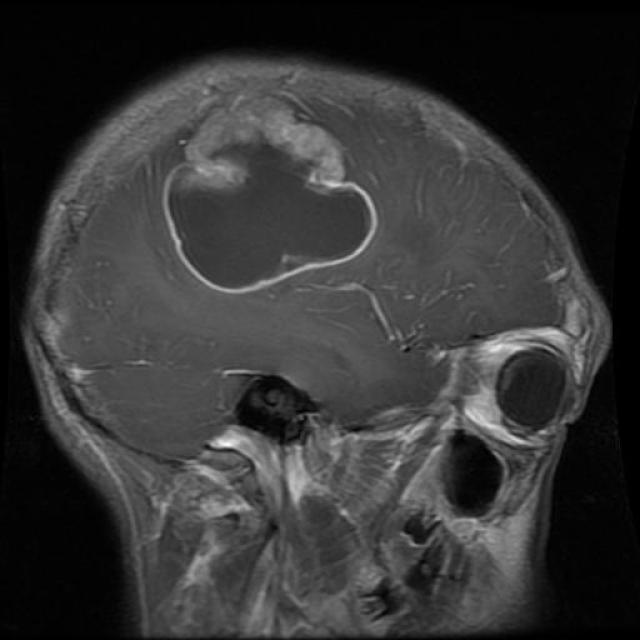glioma: (158, 95, 378, 289)
